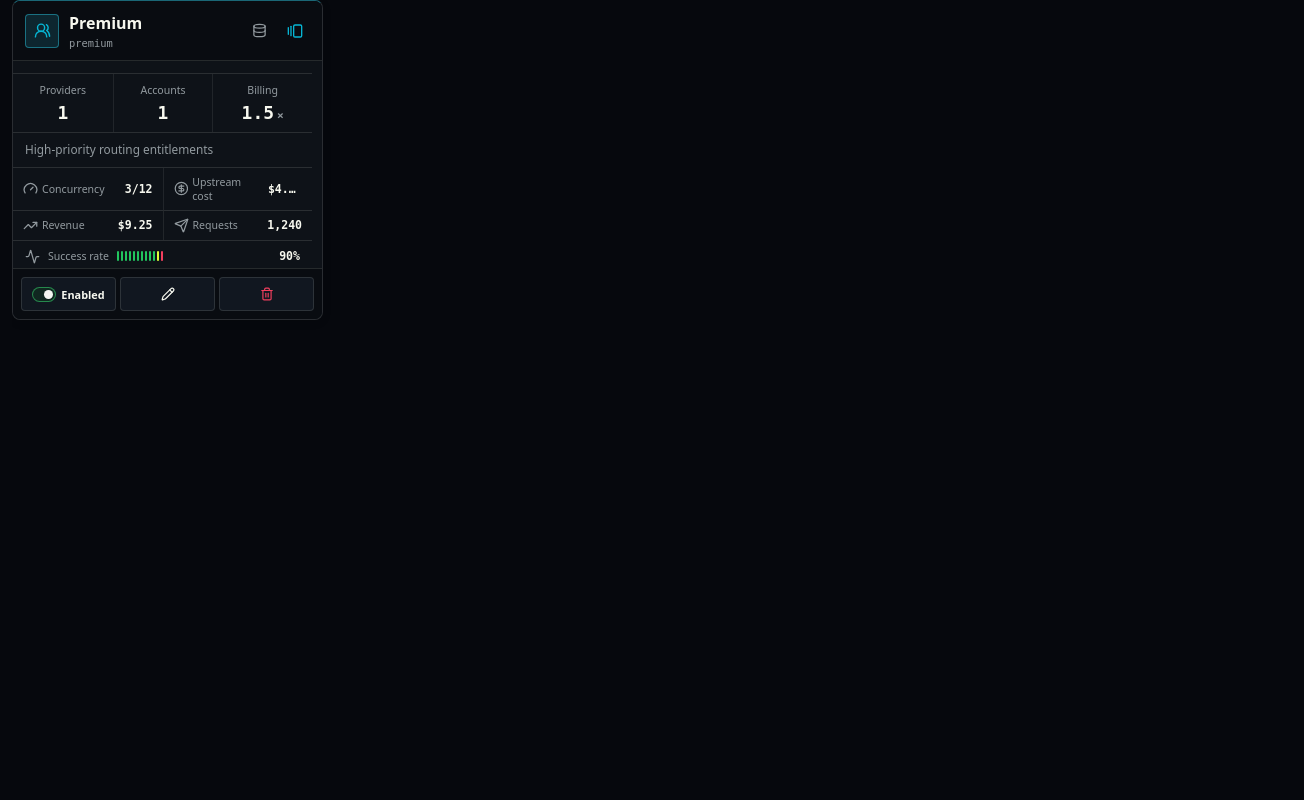
Test: CredentialGroupsWorkspace › says so when the provider scope leaves the panel with nothing
Click the button "Premium premium".
click(152, 30)  # box [69,12,234,49]
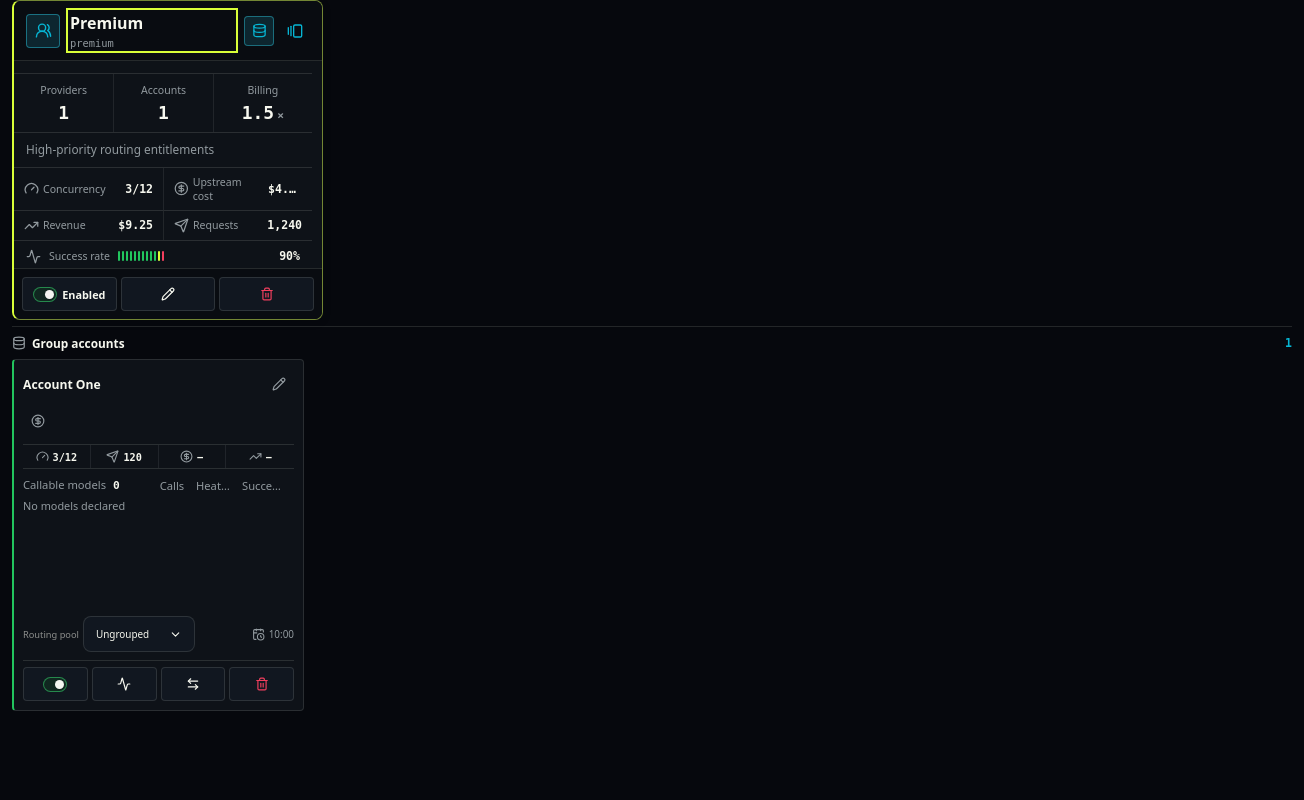
Click the button named "Flip Premium for details".
click(295, 30)  # box [280,16,310,46]
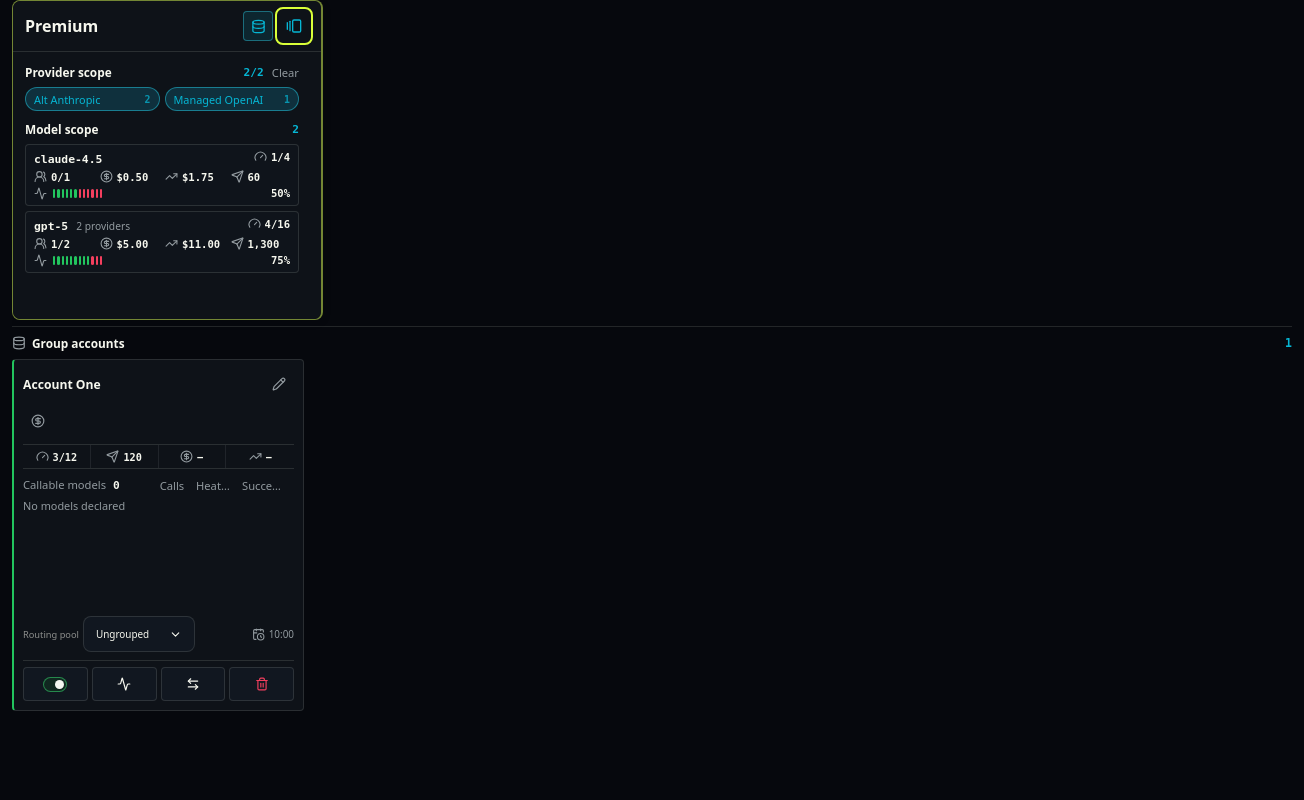
Click the button "Clear".
click(285, 72)  # box [272,64,299,80]
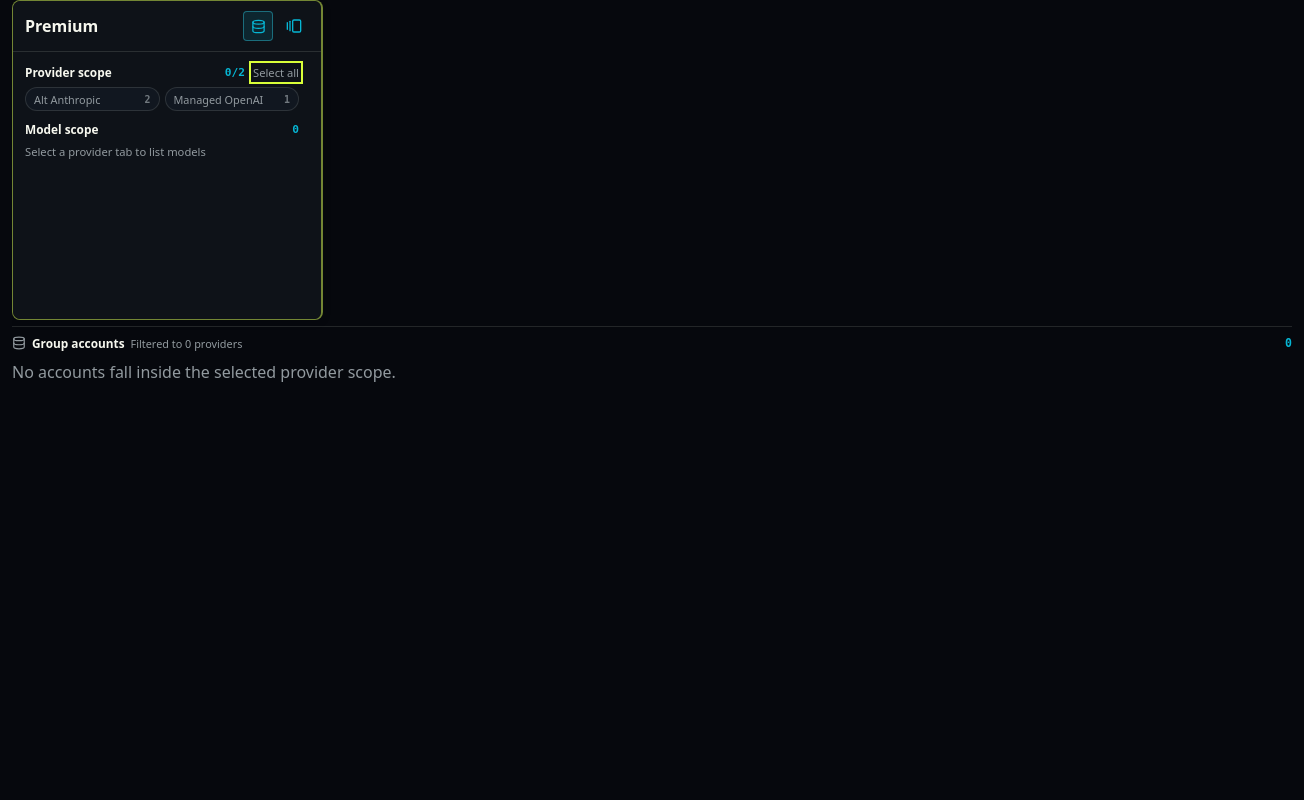
Now the text "No accounts fall inside the selected provider scope." is shown, box [12,361,396,383]
